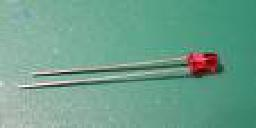LED: (9, 48, 229, 89)
